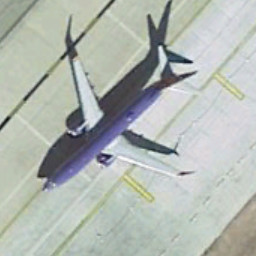Airplane: (19, 20, 221, 203)
